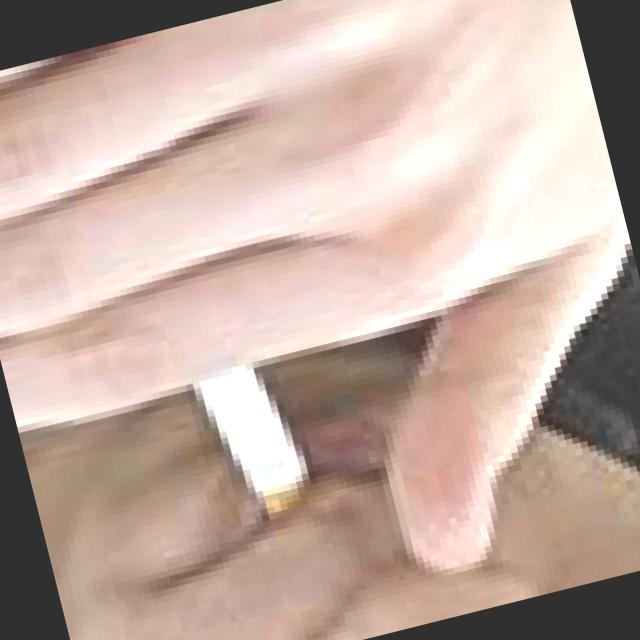cigarette: (166, 338, 321, 552)
